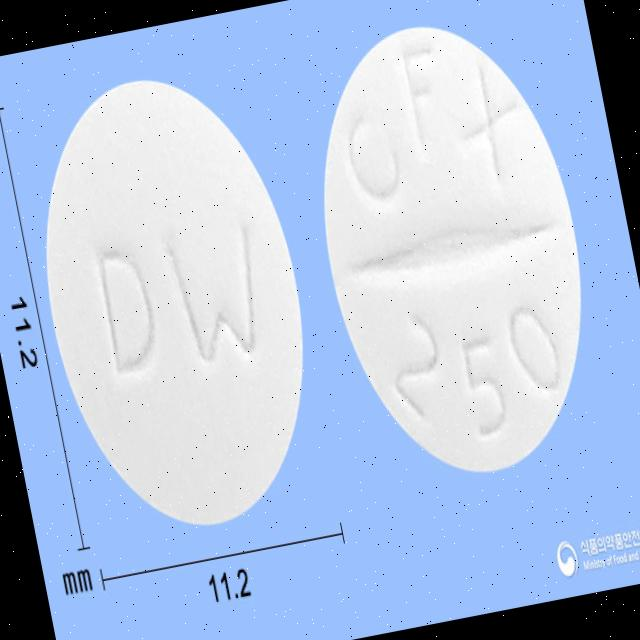Ciplus: (5, 51, 346, 556), (286, 0, 620, 497)
